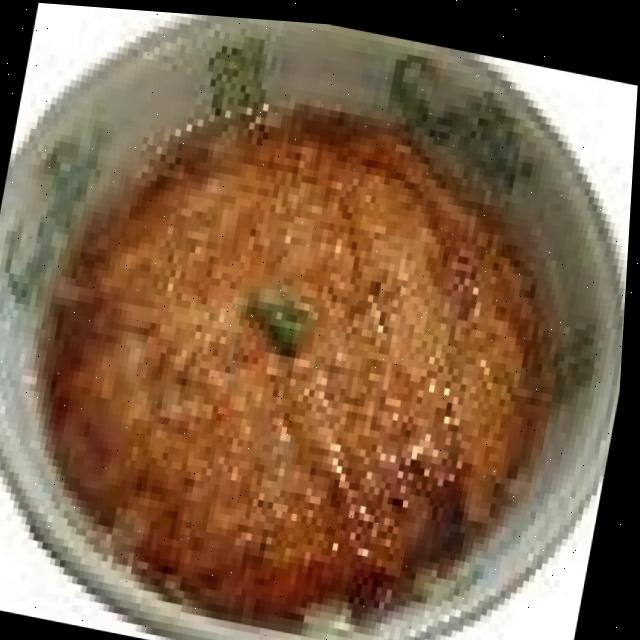面条主食: (0, 47, 605, 640)
